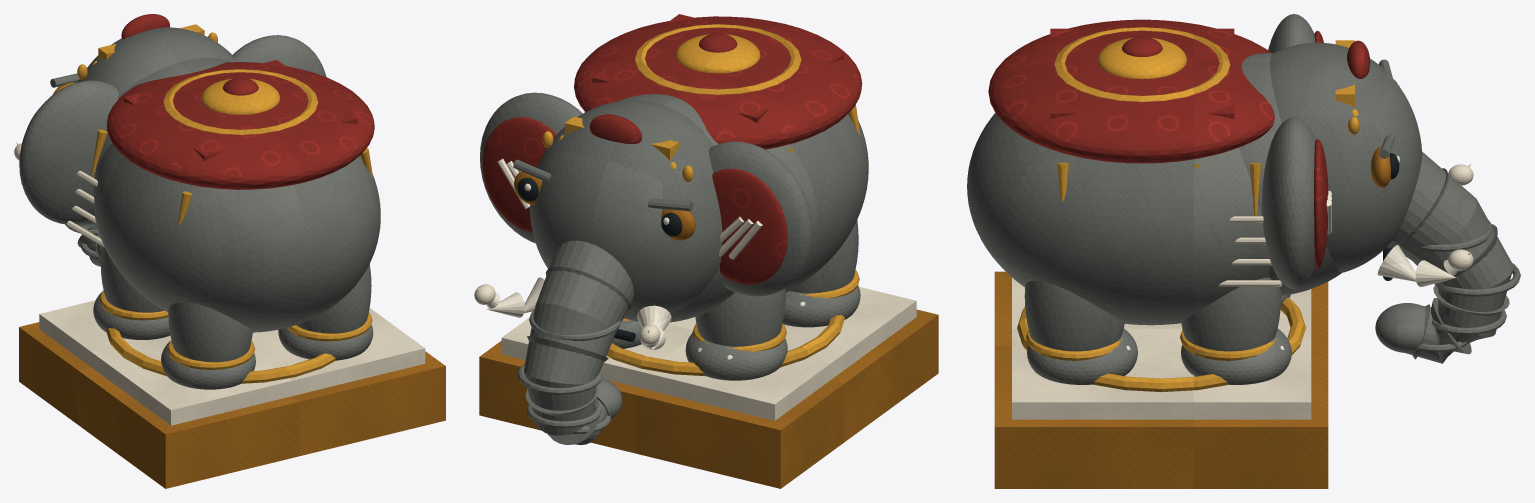
File: Royal_India_Elephant_Statue.glb
3 renders of one model, left to right at view 1: azimuth 30°, elevation 25°; view 2: azimuth 150°, elevation 25°; view 3: azimuth 270°, elevation 25°, orthographic. The views are drawn at different scales.
Visible parts, largest first — view 1: red_elephant_elephant_skin, red_elephant_brass, red_elephant_brocade, red_elephant_marble, red_elephant_gold; view 2: red_elephant_elephant_skin, red_elephant_brocade, red_elephant_brass, red_elephant_marble, red_elephant_gold, red_elephant_ivory, red_elephant_dark; view 3: red_elephant_elephant_skin, red_elephant_brocade, red_elephant_brass, red_elephant_marble, red_elephant_gold, red_elephant_ivory.
Part boxes in pixels (left/top/right/bottom): red_elephant_elephant_skin: left=19, top=27, right=380, bottom=389; red_elephant_brass: left=19, top=82, right=445, bottom=488; red_elephant_brocade: left=28, top=14, right=374, bottom=189; red_elephant_marble: left=14, top=143, right=425, bottom=425; red_elephant_gold: left=77, top=24, right=373, bottom=383; red_elephant_elephant_skin: left=480, top=92, right=868, bottom=444; red_elephant_brocade: left=482, top=14, right=862, bottom=284; red_elephant_brass: left=479, top=171, right=938, bottom=488; red_elephant_marble: left=474, top=284, right=916, bottom=420; red_elephant_gold: left=542, top=24, right=860, bottom=376; red_elephant_ivory: left=476, top=159, right=805, bottom=359; red_elephant_dark: left=517, top=177, right=682, bottom=342; red_elephant_elephant_skin: left=967, top=14, right=1520, bottom=384; red_elephant_brocade: left=988, top=19, right=1370, bottom=268; red_elephant_brass: left=994, top=147, right=1390, bottom=488; red_elephant_marble: left=1012, top=164, right=1473, bottom=419; red_elephant_gold: left=1017, top=27, right=1359, bottom=392; red_elephant_ivory: left=1126, top=84, right=1471, bottom=349.
Bounding box in the file's own units: 0.94 × 0.958 × 1.3.
Materials: 7 (7 with a texture image).
